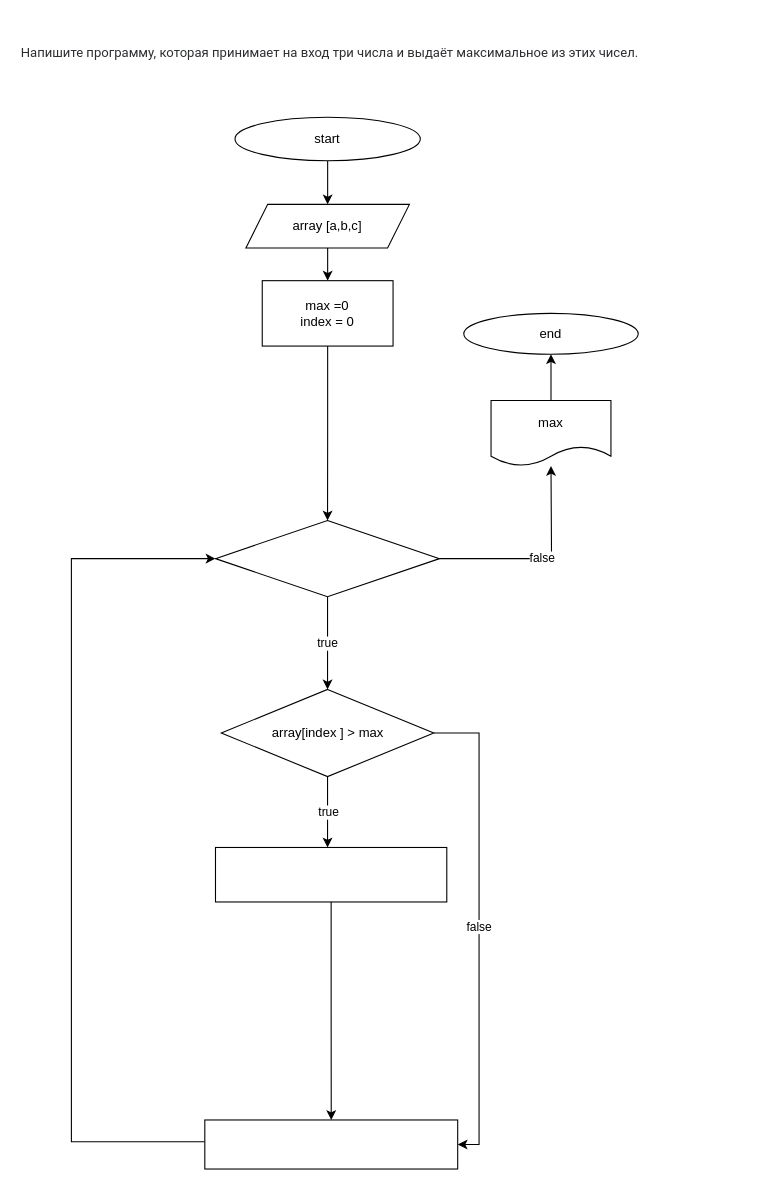
The diagram is 778 pixels wide and 1188 high, and some of its shapes have lost their labels. The shapes that lost their labels are listed below. From the top down, each one's centre as x and y in pixels, then its label:
At point (326, 558): "index < array.lenght".
At point (330, 874): "max = array[index]".
At point (331, 1144): "index = index + 1".
